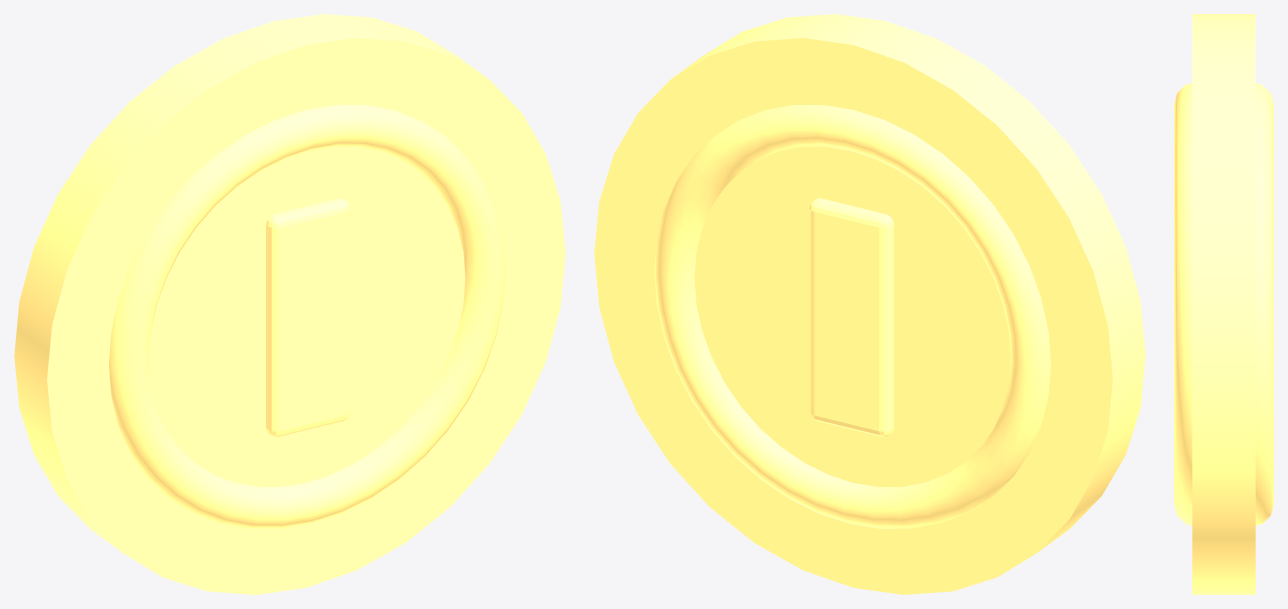
File: coin.glb
The picture shows the model from 3 angles, left to right: view 1: azimuth 30°, elevation 25°; view 2: azimuth 150°, elevation 25°; view 3: azimuth 270°, elevation 25°; orthographic projection. The views are drawn at different scales.
Parts seen in each view (by area): view 1: Cylinder, Torus.001, Cube; view 2: Cylinder, Torus, Cube; view 3: Cylinder, Torus, Torus.001.
Boxes of the visible parts, box(x1,y1,x2,y2) form: Cylinder: box(14, 14, 565, 594); Torus.001: box(109, 105, 505, 528); Cube: box(266, 198, 350, 436); Cylinder: box(594, 14, 1145, 594); Torus: box(654, 105, 1050, 528); Cube: box(809, 198, 893, 436); Cylinder: box(1192, 14, 1255, 594); Torus: box(1255, 83, 1273, 525); Torus.001: box(1174, 83, 1192, 525).
Bounding box in the file's own units: 0.64 × 0.64 × 0.11.
